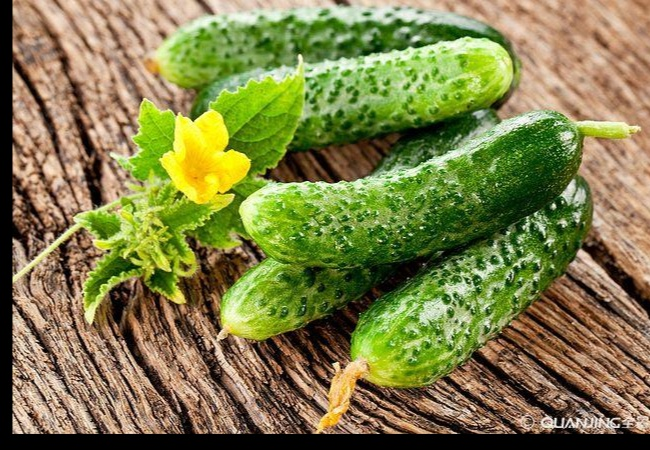cucumber: (365, 172, 589, 376), (246, 120, 574, 259)
cucumber_plant: (89, 56, 300, 296)
